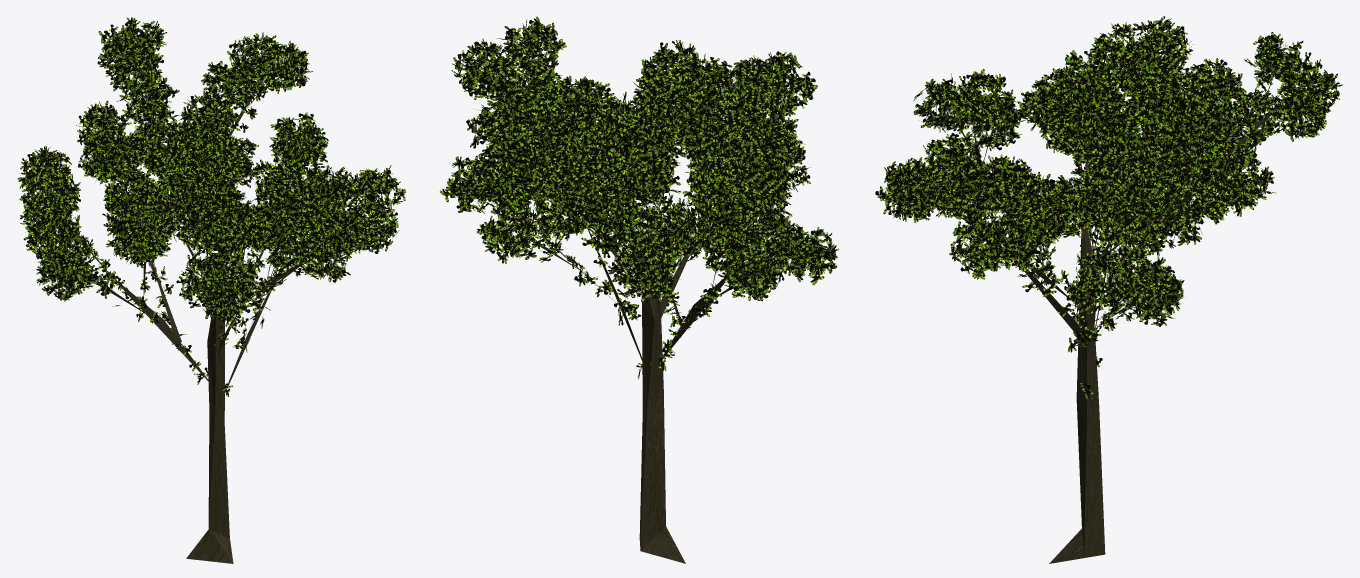
File: emergent_fig_v03_LOD1.fbx
3 renders of one model, left to right at view 1: azimuth 30°, elevation 25°; view 2: azimuth 150°, elevation 25°; view 3: azimuth 270°, elevation 25°, orthographic. The views are drawn at different scales.
Parts seen in each view (by area): view 1: emergent_fig_v03_LOD1; view 2: emergent_fig_v03_LOD1; view 3: emergent_fig_v03_LOD1.
Part boxes in pixels (box(x1,y1,x2,y2)): emergent_fig_v03_LOD1: box(17, 17, 405, 563); emergent_fig_v03_LOD1: box(439, 16, 839, 563); emergent_fig_v03_LOD1: box(875, 16, 1342, 563).
Size of the model in its own units: 3683 by 4060 by 5111.
2 materials, 2 textured.
